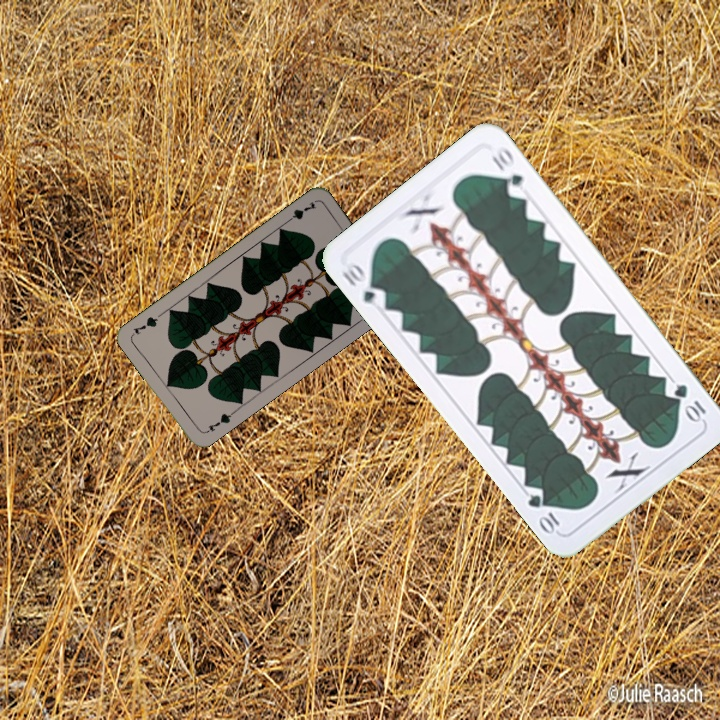G10: (338, 257, 389, 312), (669, 380, 709, 425)
G7: (281, 198, 319, 226), (201, 408, 237, 436)
